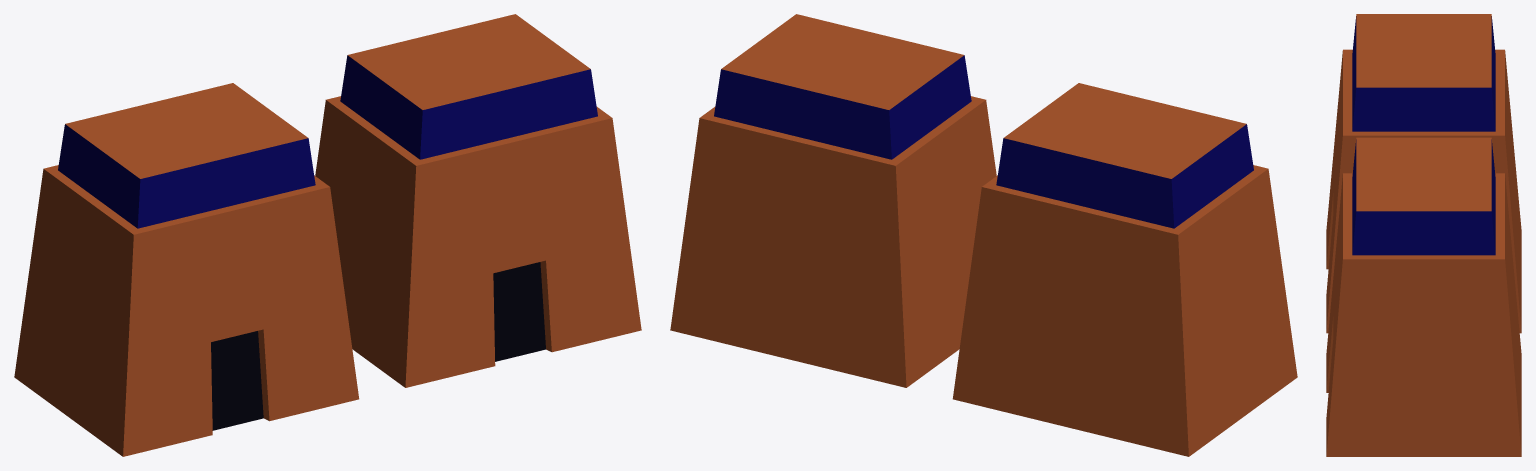
File: TempleTop 1.fbx
3 views of the same model, side by side, from view 1: azimuth 30°, elevation 25°; view 2: azimuth 150°, elevation 25°; view 3: azimuth 270°, elevation 25° (orthographic). The views are drawn at different scales.
Parts seen in each view (by area): view 1: TempleTop; view 2: TempleTop; view 3: TempleTop.
Part boxes in pixels (x1=…): TempleTop: x1=14, y1=14, x2=641, y2=456; TempleTop: x1=670, y1=14, x2=1297, y2=456; TempleTop: x1=1326, y1=14, x2=1521, y2=456.
Bounding box in the file's own units: 178 × 84.92 × 64.69.
